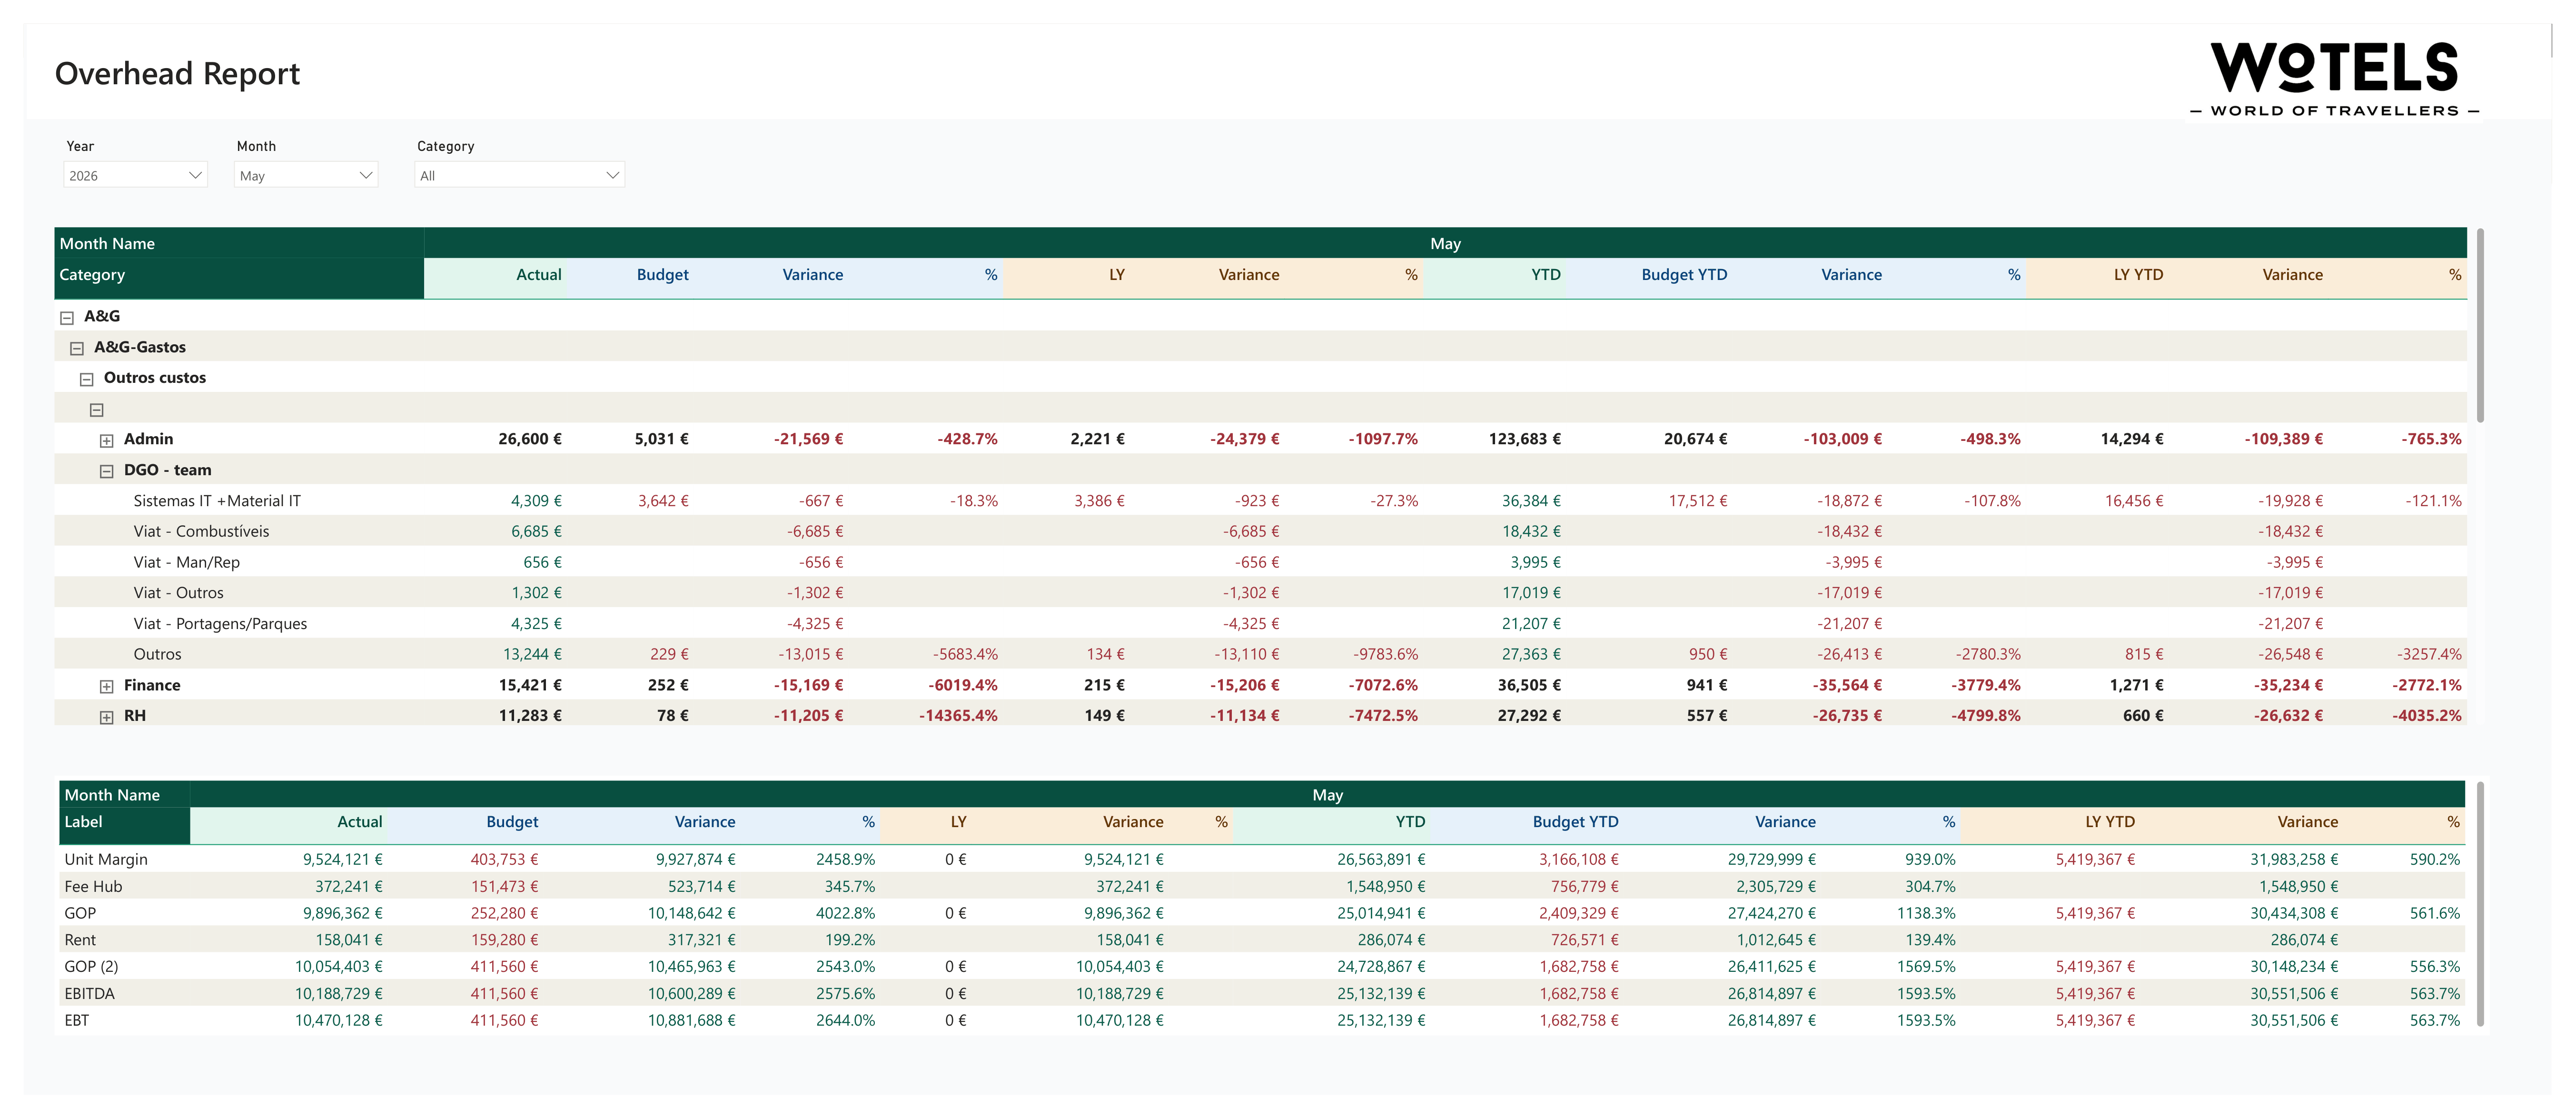

The page's visual inventory and layout, read from the dashboard file:
{"tool":"powerbi","page":{"name":"Overhead Report","canvas":[2550,1080],"ordinal":4},"visuals":[{"type":"group","id":"g1","title":"Background Shapes","box":[3,0,2797.9,100],"z":0},{"type":"shape","box":[3,0,2797.9,95.9],"z":1000,"group":"g1"},{"type":"pivotTable","fields":{"Columns":["DateTable.Month Name"],"Rows":["Category Sort Table.Category","cost_centers.Sub Category (1)","cost_centers.Sub Category (2)","cost_centers.Sub Category (3)","cost_centers.Sub Category (4)","cost_centers.Cost Center Description"],"Values":["KPIs.Actual P&L","KPI_Finance.Budget P&L","KPI_Finance.Budget Variance","KPI_Finance.Budget Variance %","KPI_Finance.Actual P&L LY","KPI_Finance.LY P&L Variance","KPI_Finance.Unit LY Variance %","KPIs.Actual P&L YTD","KPI_Finance.Budget YTD","KPI_Finance.Budget Variance YTD","KPI_Finance.Budget Variance % YTD","KPI_Finance.LY YTD"]},"box":[25.6,200,2462.2,512.2],"z":1000},{"type":"image","box":[2174.2,3.3,313.3,96.7],"z":2000,"group":"g1"},{"type":"slicer","fields":{"Values":["DateTable.Year"]},"box":[29.6,109.7,166,76.8],"z":2000},{"type":"textbox","box":[26.4,20.7,357.5,62.2],"z":3000,"group":"g1"},{"type":"slicer","fields":{"Values":["Category Sort Table.Category"]},"box":[384,110,233,76],"z":4000},{"type":"slicer","fields":{"Values":["DateTable.Month Name"]},"box":[202.2,109.7,166,76.8],"z":8000},{"type":"pivotTable","fields":{"Columns":["DateTable.Month Name"],"Rows":["Footer_Table.Label"],"Values":["Footer_Table.Footer_Value","Footer_Table.Budget F","Footer_Table.Budget Variance F","Footer_Table.Budget Variance F %","Footer_Table.LY","Footer_Table.LY Variance F","Footer_Table.LY Variance F %","Footer_Table.YTD","Footer_Table.Budget YTD F","Footer_Table.Budget Variance YTD F","Footer_Table.Budget Variance YTD F %","Footer_Table.LY YTD F"]},"box":[31.1,757.8,2456.7,262.2],"z":9000}]}

Visuals, with their boxes on the page's 2550x1080 design canvas (x1, y1, x2, y2). These are canvas units, not pixel positions in the 2576x1119 screenshot, which may show the page scaled, cropped or inside an application window:
"Background Shapes" group: (x1=3, y1=0, x2=2801, y2=100)
shape: (x1=3, y1=0, x2=2801, y2=96)
pivotTable - DateTable.Month Name x Category Sort Table.Category: (x1=26, y1=200, x2=2488, y2=712)
image: (x1=2174, y1=3, x2=2488, y2=100)
slicer - DateTable.Year: (x1=30, y1=110, x2=196, y2=186)
textbox: (x1=26, y1=21, x2=384, y2=83)
slicer - Category Sort Table.Category: (x1=384, y1=110, x2=617, y2=186)
slicer - DateTable.Month Name: (x1=202, y1=110, x2=368, y2=186)
pivotTable - DateTable.Month Name x Footer_Table.Label: (x1=31, y1=758, x2=2488, y2=1020)
